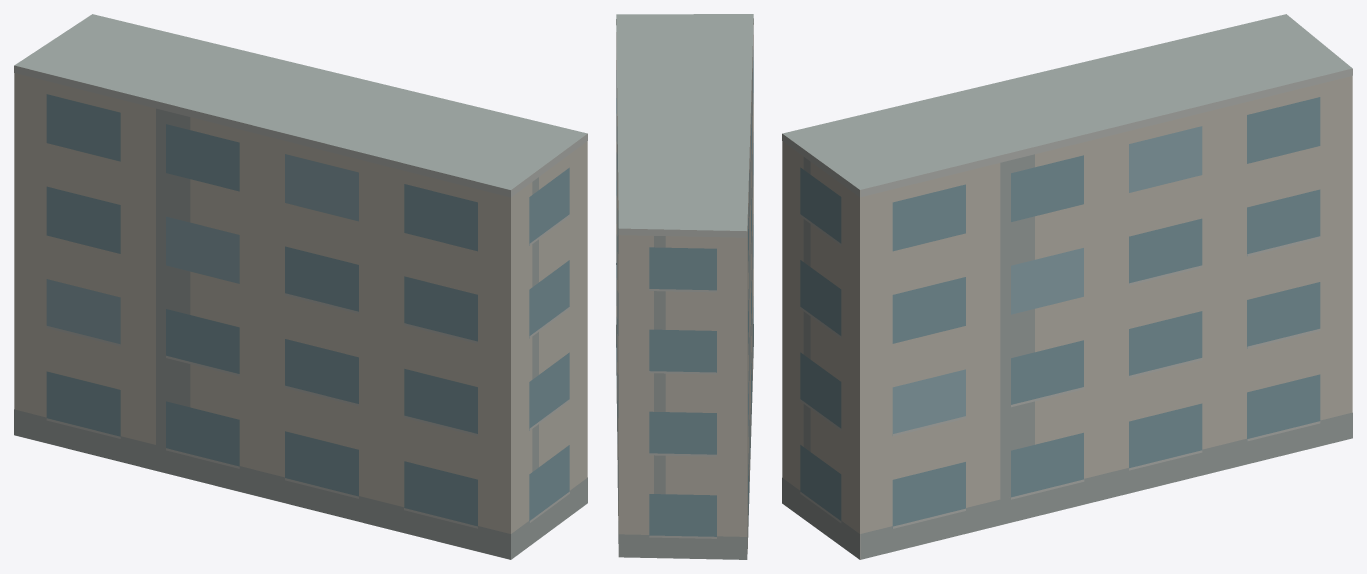
The model's file is residential-95b7cce5-4cc3-4542-b828-8a4a3ee3a39a.glb.
3 views of the same model, side by side, from view 1: azimuth 30°, elevation 25°; view 2: azimuth 150°, elevation 25°; view 3: azimuth 270°, elevation 25° (orthographic). The views are drawn at different scales.
Parts seen in each view (by area): view 1: residential-95b7cce5-4cc3-4542-b828-8a4a3ee3a39a.tmp; view 2: residential-95b7cce5-4cc3-4542-b828-8a4a3ee3a39a.tmp; view 3: residential-95b7cce5-4cc3-4542-b828-8a4a3ee3a39a.tmp.
Part boxes in pixels (x1=…): residential-95b7cce5-4cc3-4542-b828-8a4a3ee3a39a.tmp: x1=14, y1=14, x2=587, y2=559; residential-95b7cce5-4cc3-4542-b828-8a4a3ee3a39a.tmp: x1=616, y1=14, x2=753, y2=559; residential-95b7cce5-4cc3-4542-b828-8a4a3ee3a39a.tmp: x1=782, y1=14, x2=1352, y2=559.
Size of the model in its own units: 12.46 by 12.2 by 17.06.
